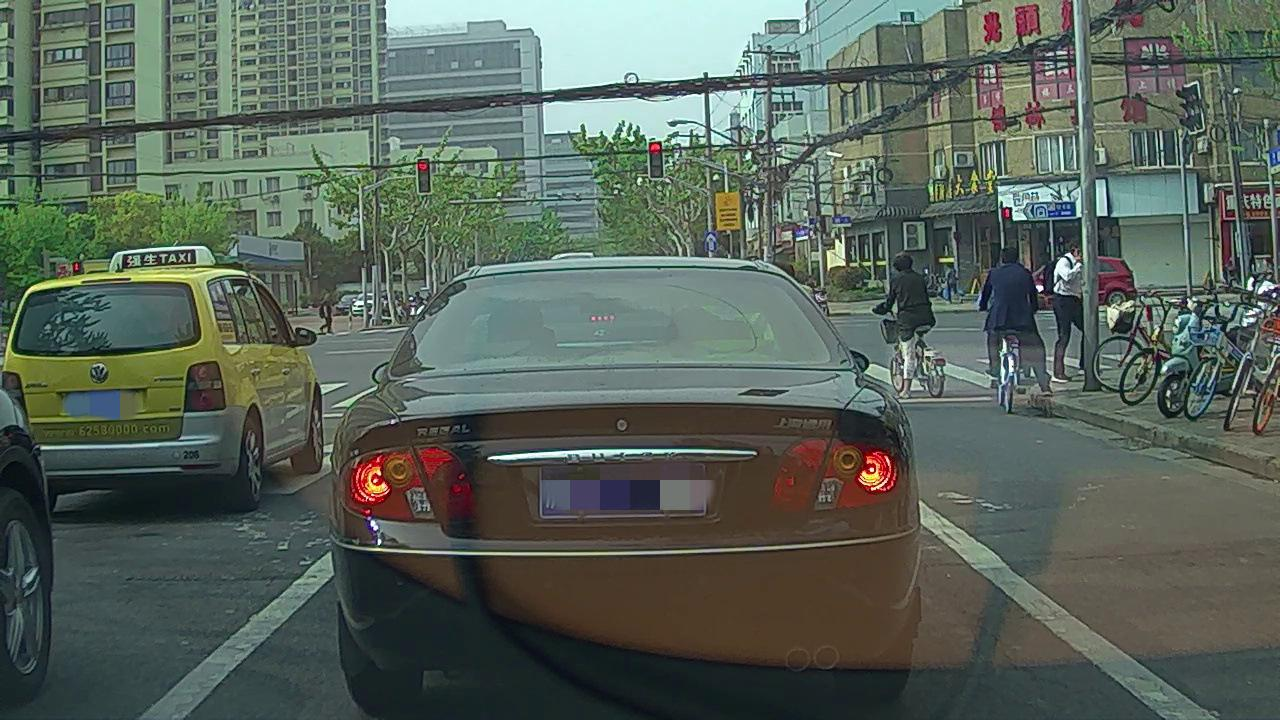traffic_light: (648, 141, 666, 182), (415, 158, 433, 194)
